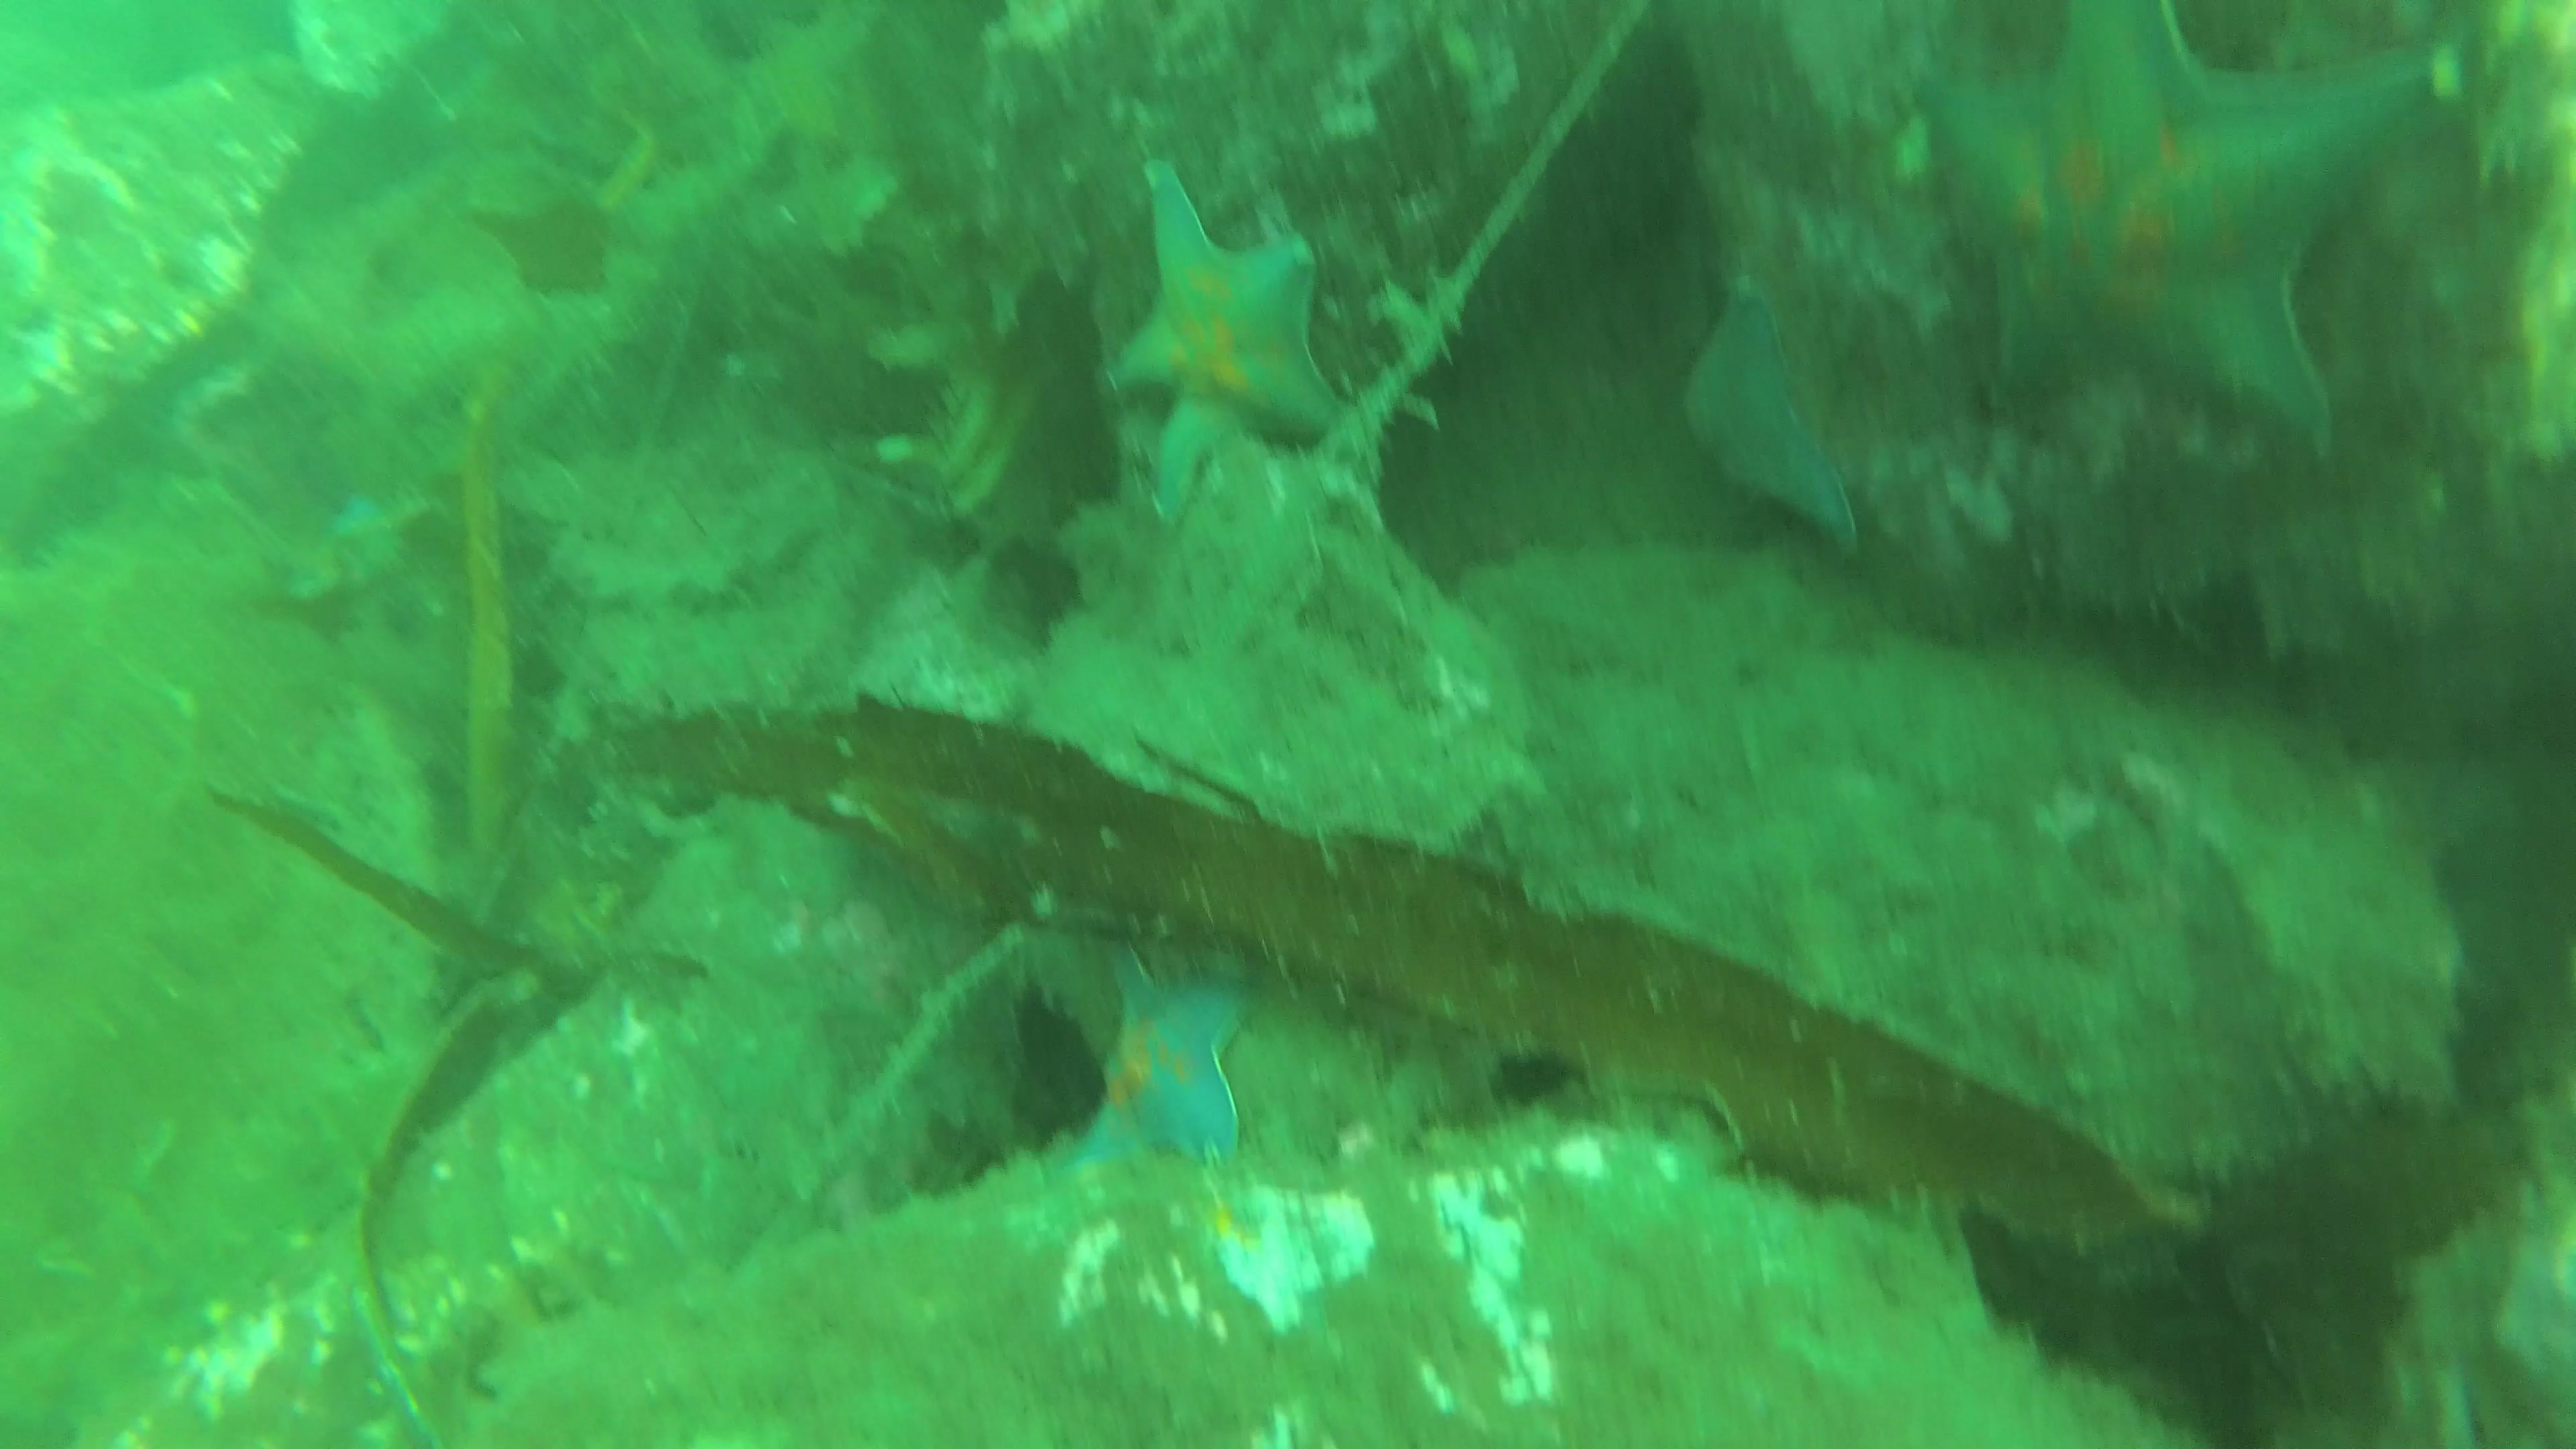starfish: (1921, 5, 2463, 465), (1104, 165, 1343, 525), (1683, 276, 1859, 554), (1067, 948, 1249, 1169)
